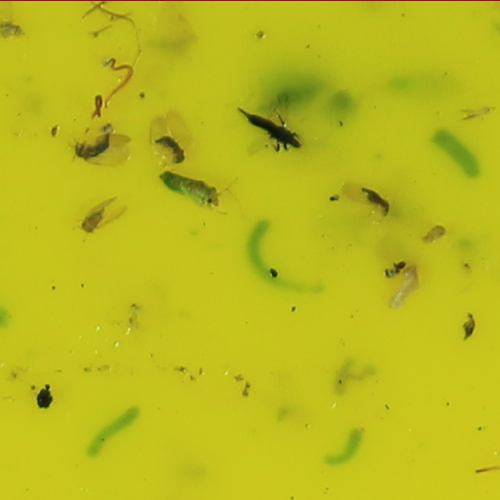Glycaspis: (158, 173, 224, 211)
Platyobria: (77, 205, 115, 233)
psylla: (360, 183, 392, 218), (73, 132, 110, 158), (154, 135, 186, 164)
